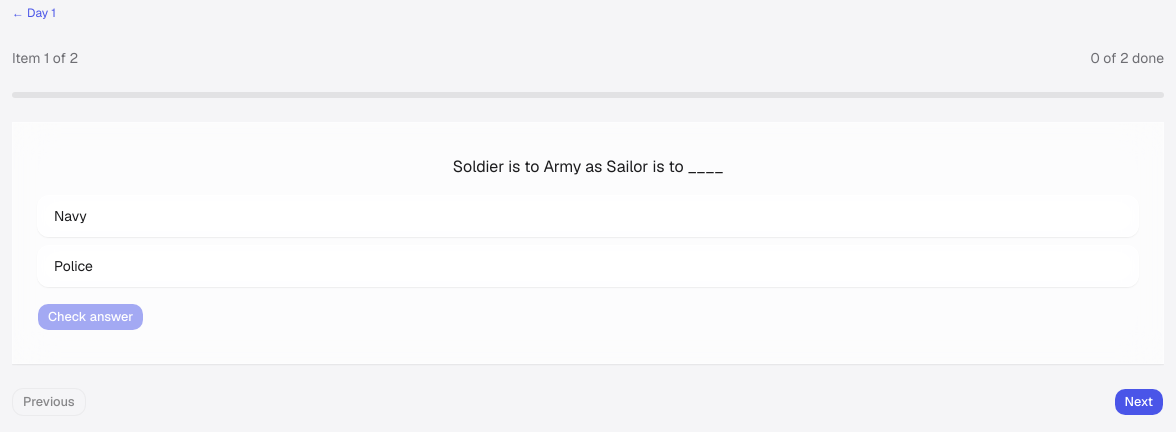
it: BankPracticeRunner (MCQ) › disables Check answer until an option is picked
Expected: the button "Check answer" is disabled, [37, 303, 144, 331]
Click the button "Navy".
click(70, 216)  # box [37, 195, 1139, 237]
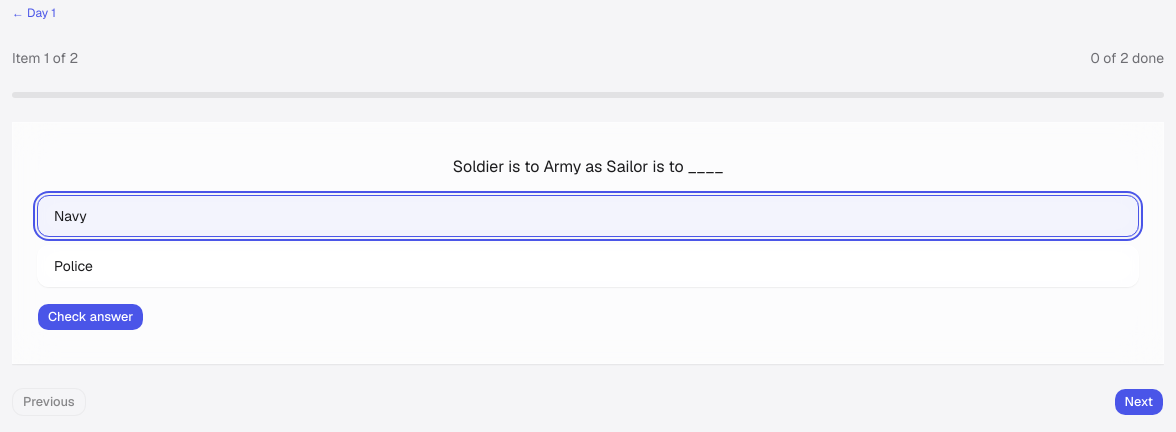
Now the button "Check answer" is enabled, box [37, 303, 144, 331]
